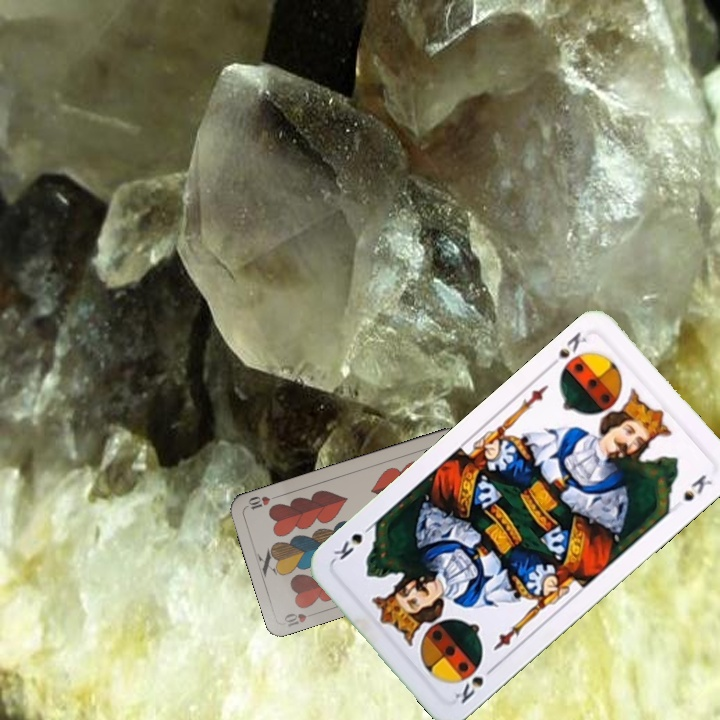H10: (280, 608, 320, 629)
SK: (450, 661, 499, 707), (543, 327, 589, 372)
